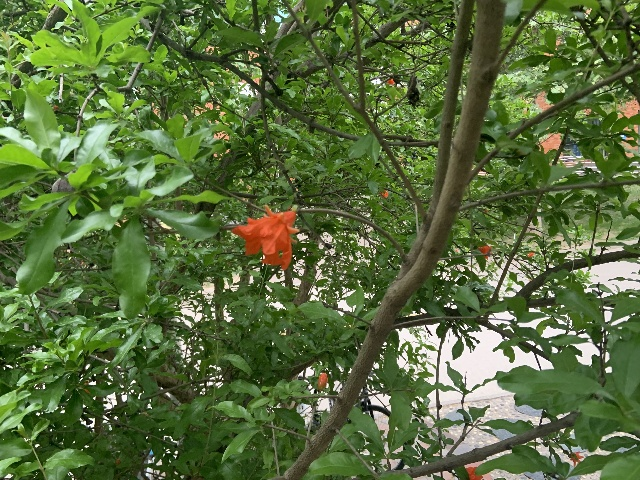bud: (317, 372, 327, 389)
flower: (231, 204, 299, 269), (465, 466, 482, 480), (477, 244, 491, 260), (570, 451, 583, 466), (380, 189, 388, 197), (386, 78, 394, 85)
